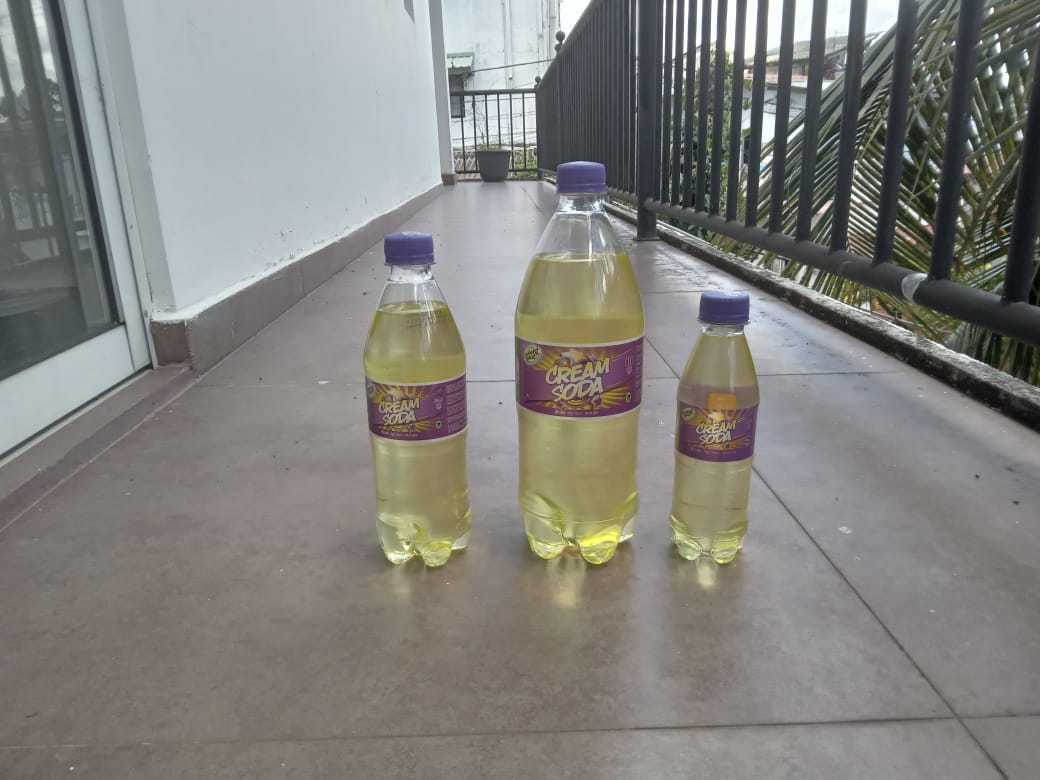M: (513, 158, 645, 566)
S: (363, 233, 474, 572)
Xs: (671, 292, 759, 568)
